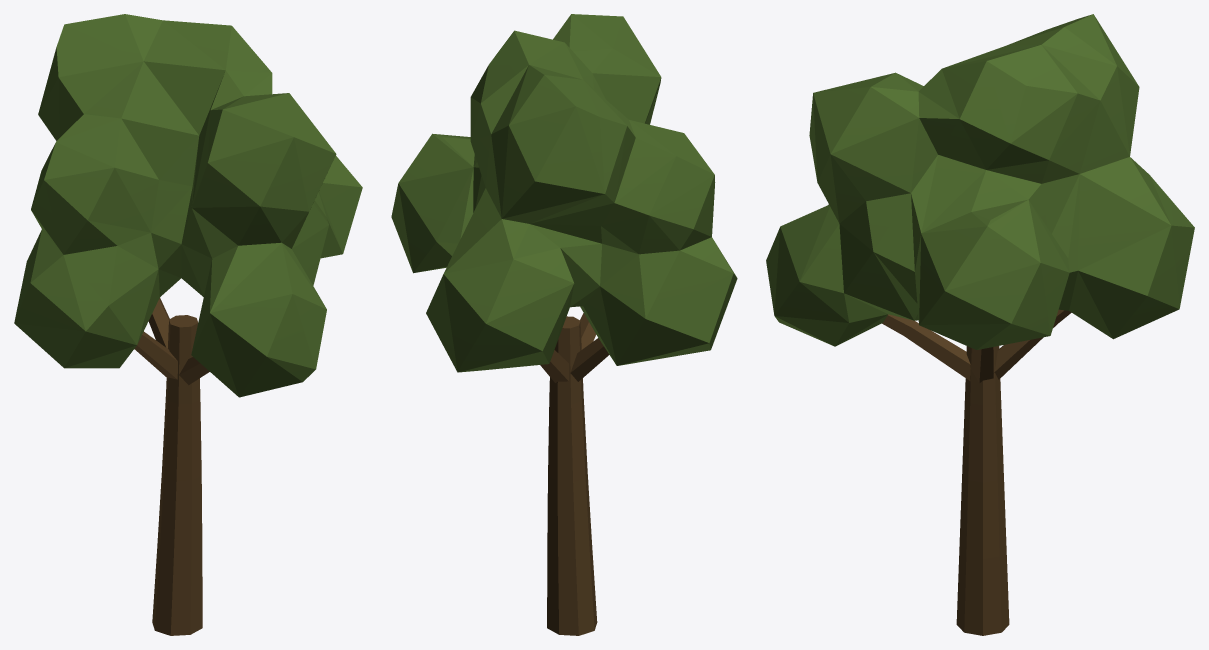
Rendered from BroadleafTallA.glb.
3 renders of one model, left to right at view 1: azimuth 30°, elevation 25°; view 2: azimuth 150°, elevation 25°; view 3: azimuth 270°, elevation 25°, orthographic.
Parts seen in each view (by area): view 1: BroadleafTallA_LOD0; view 2: BroadleafTallA_LOD0; view 3: BroadleafTallA_LOD0.
Boxes of the visible parts, <box> form: BroadleafTallA_LOD0: <box>14,14,362,635</box>; BroadleafTallA_LOD0: <box>391,14,737,635</box>; BroadleafTallA_LOD0: <box>766,14,1194,635</box>.
Size of what is drawn, in the model's own units: 3.86 by 6.7 by 4.4.
